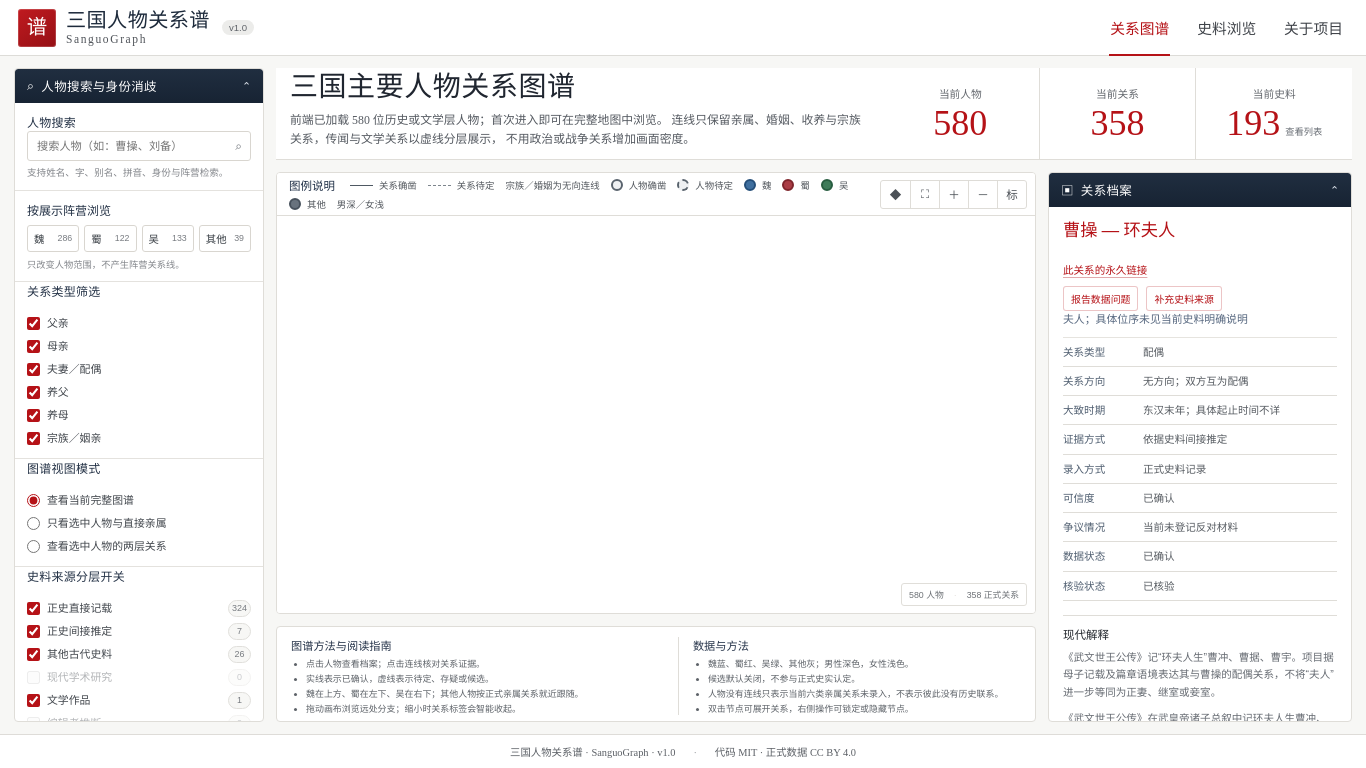
Test: application routes and home interaction › searches by a traditional alias and selects the result
The image size is (1366, 768).
Step 1. Type "曹沖" into the search field labelled "人物搜索" → (139, 146), box top-left (27, 131), bottom-right (251, 161)
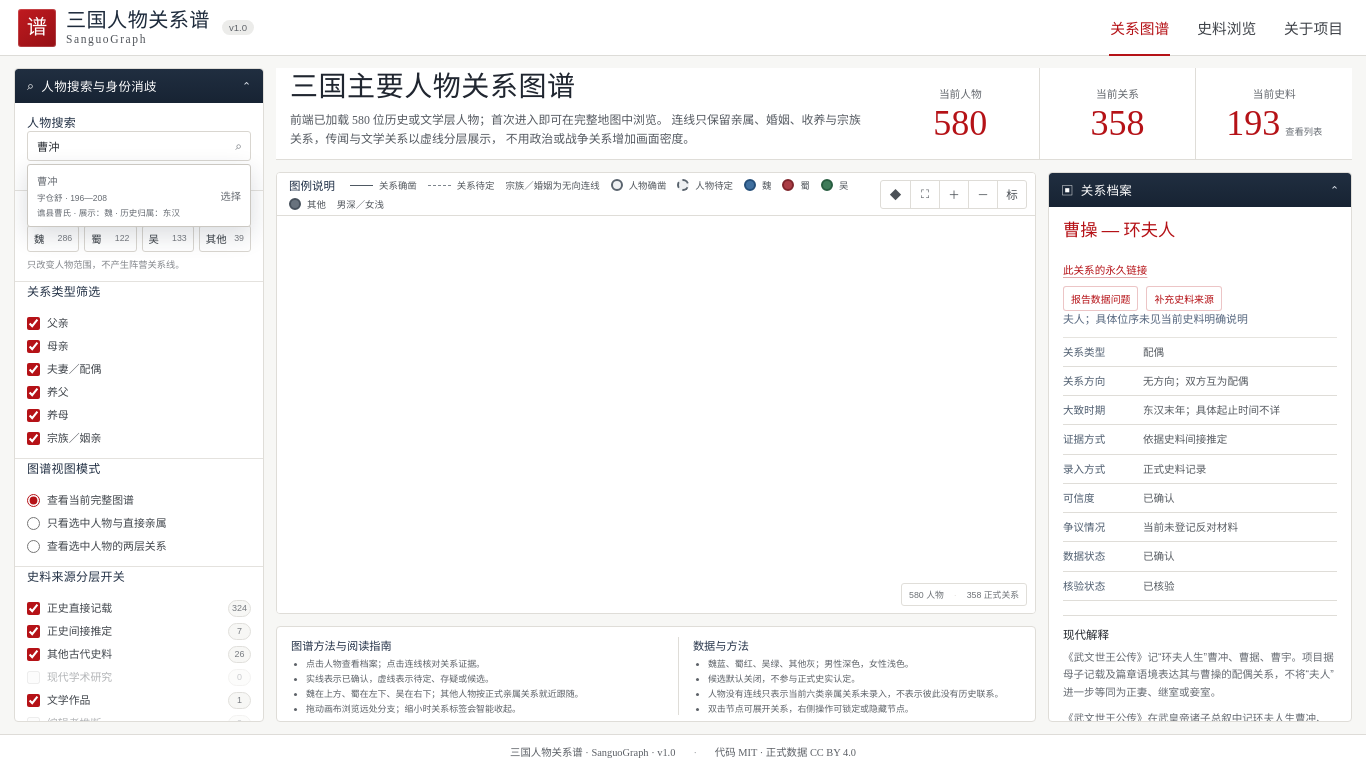
Step 2. Click the button "曹冲" → (139, 196), box top-left (28, 165), bottom-right (250, 226)
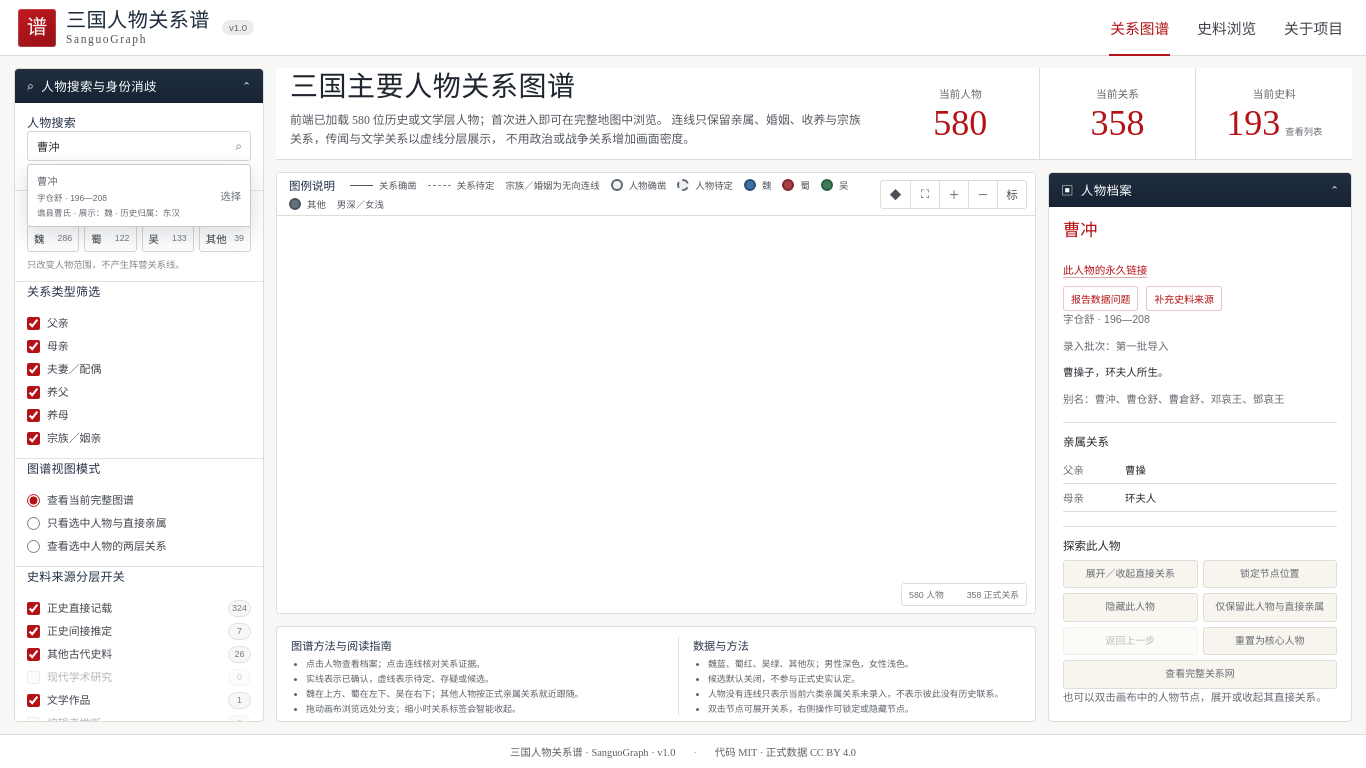
Expected: the heading "曹冲" is shown, top-left (1063, 221), bottom-right (1098, 240)
